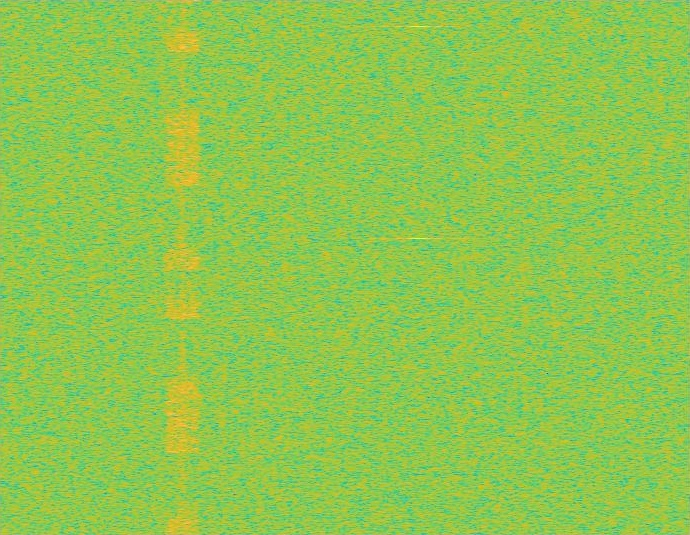DSSS: (181, 0, 185, 534)
LTE: (166, 0, 200, 534)
Radar: (412, 0, 426, 534)
